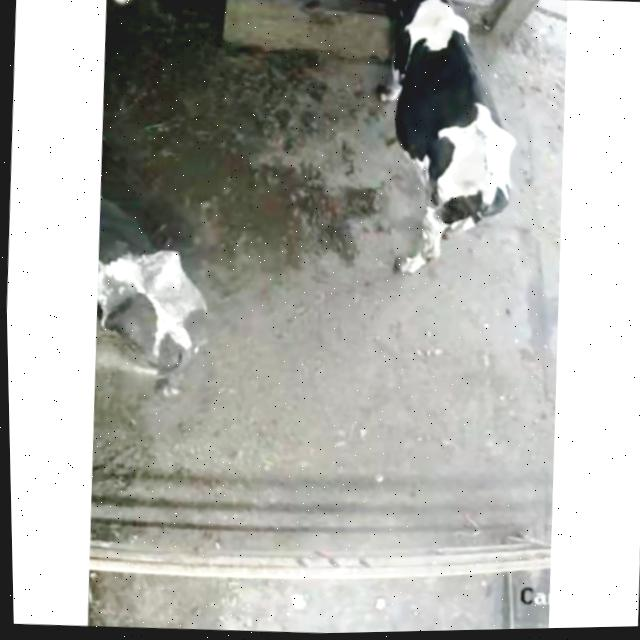drink: (337, 0, 481, 74)
